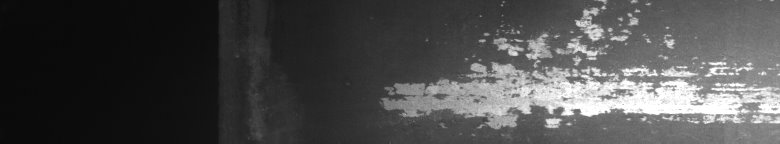kb: (536, 4, 776, 132)
